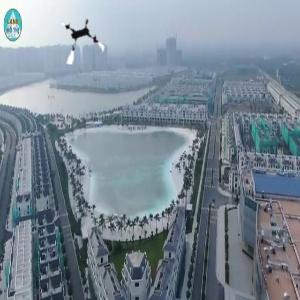drone: (53, 15, 109, 71)
